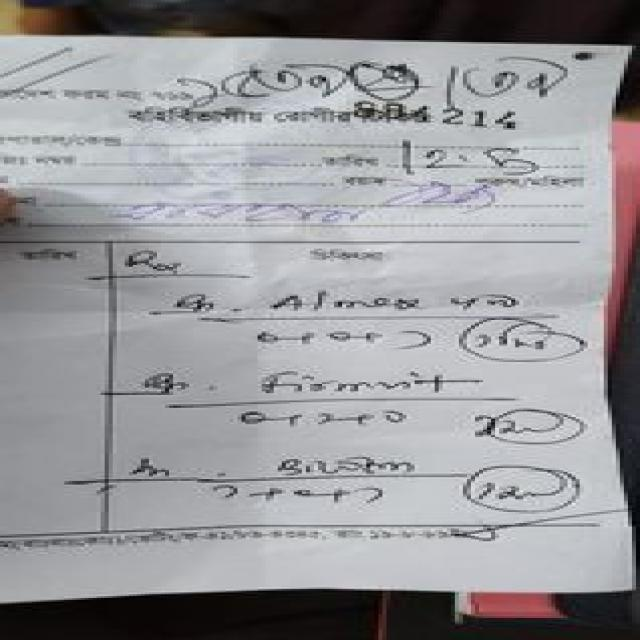Almex: (258, 280, 446, 315)
Brom: (269, 455, 435, 480)
Firmvit: (226, 367, 494, 398)
